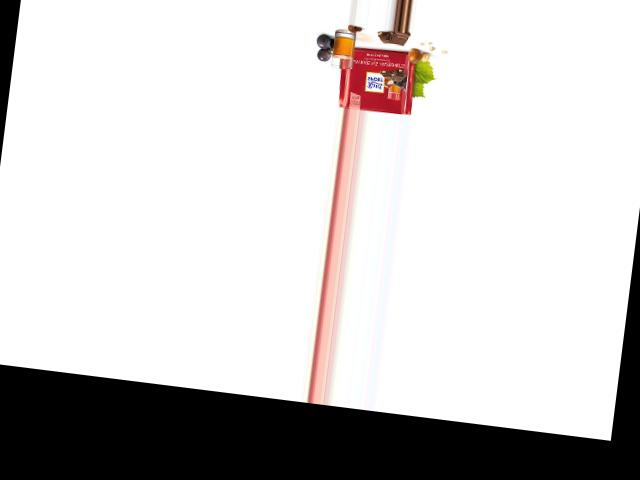chocolate: (338, 44, 420, 115)
